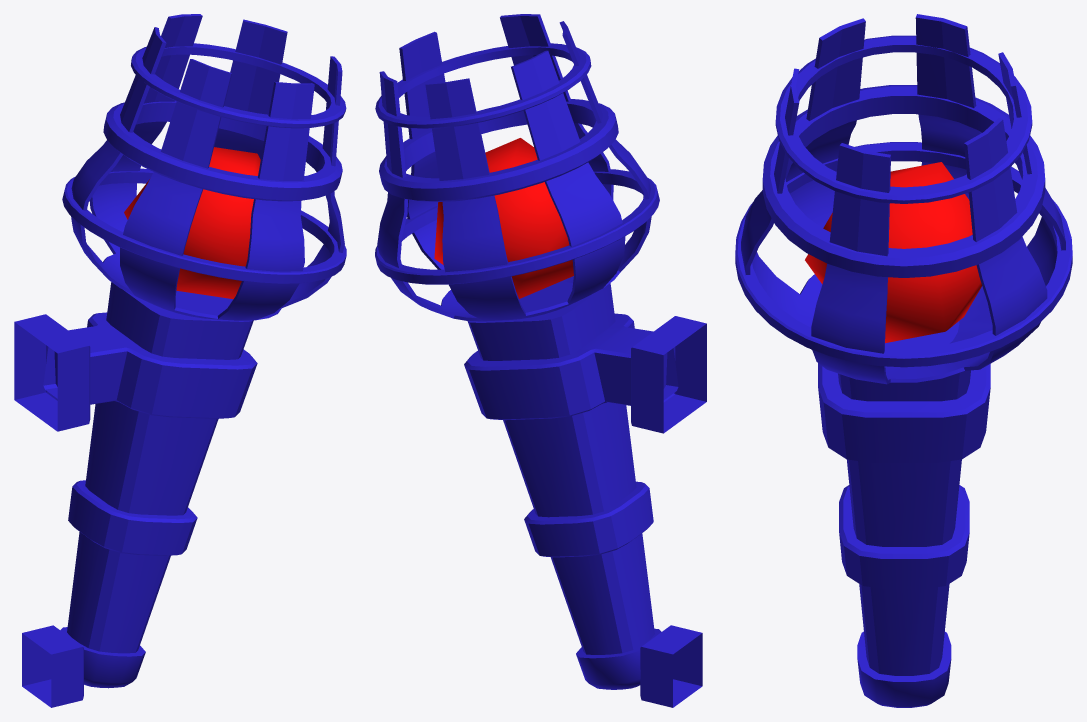
File: SM_tourch.fbx
3 views of the same model, side by side, from view 1: azimuth 30°, elevation 25°; view 2: azimuth 150°, elevation 25°; view 3: azimuth 270°, elevation 25° (orthographic). The views are drawn at different scales.
Parts seen in each view (by area): view 1: SM_tourch; view 2: SM_tourch; view 3: SM_tourch.
Part boxes in pixels (x1,y1,x2,y2): SM_tourch: [14, 14, 346, 707]; SM_tourch: [375, 14, 706, 707]; SM_tourch: [735, 14, 1072, 707].
Bounding box in the file's own units: 86.93 × 174 × 73.77.
